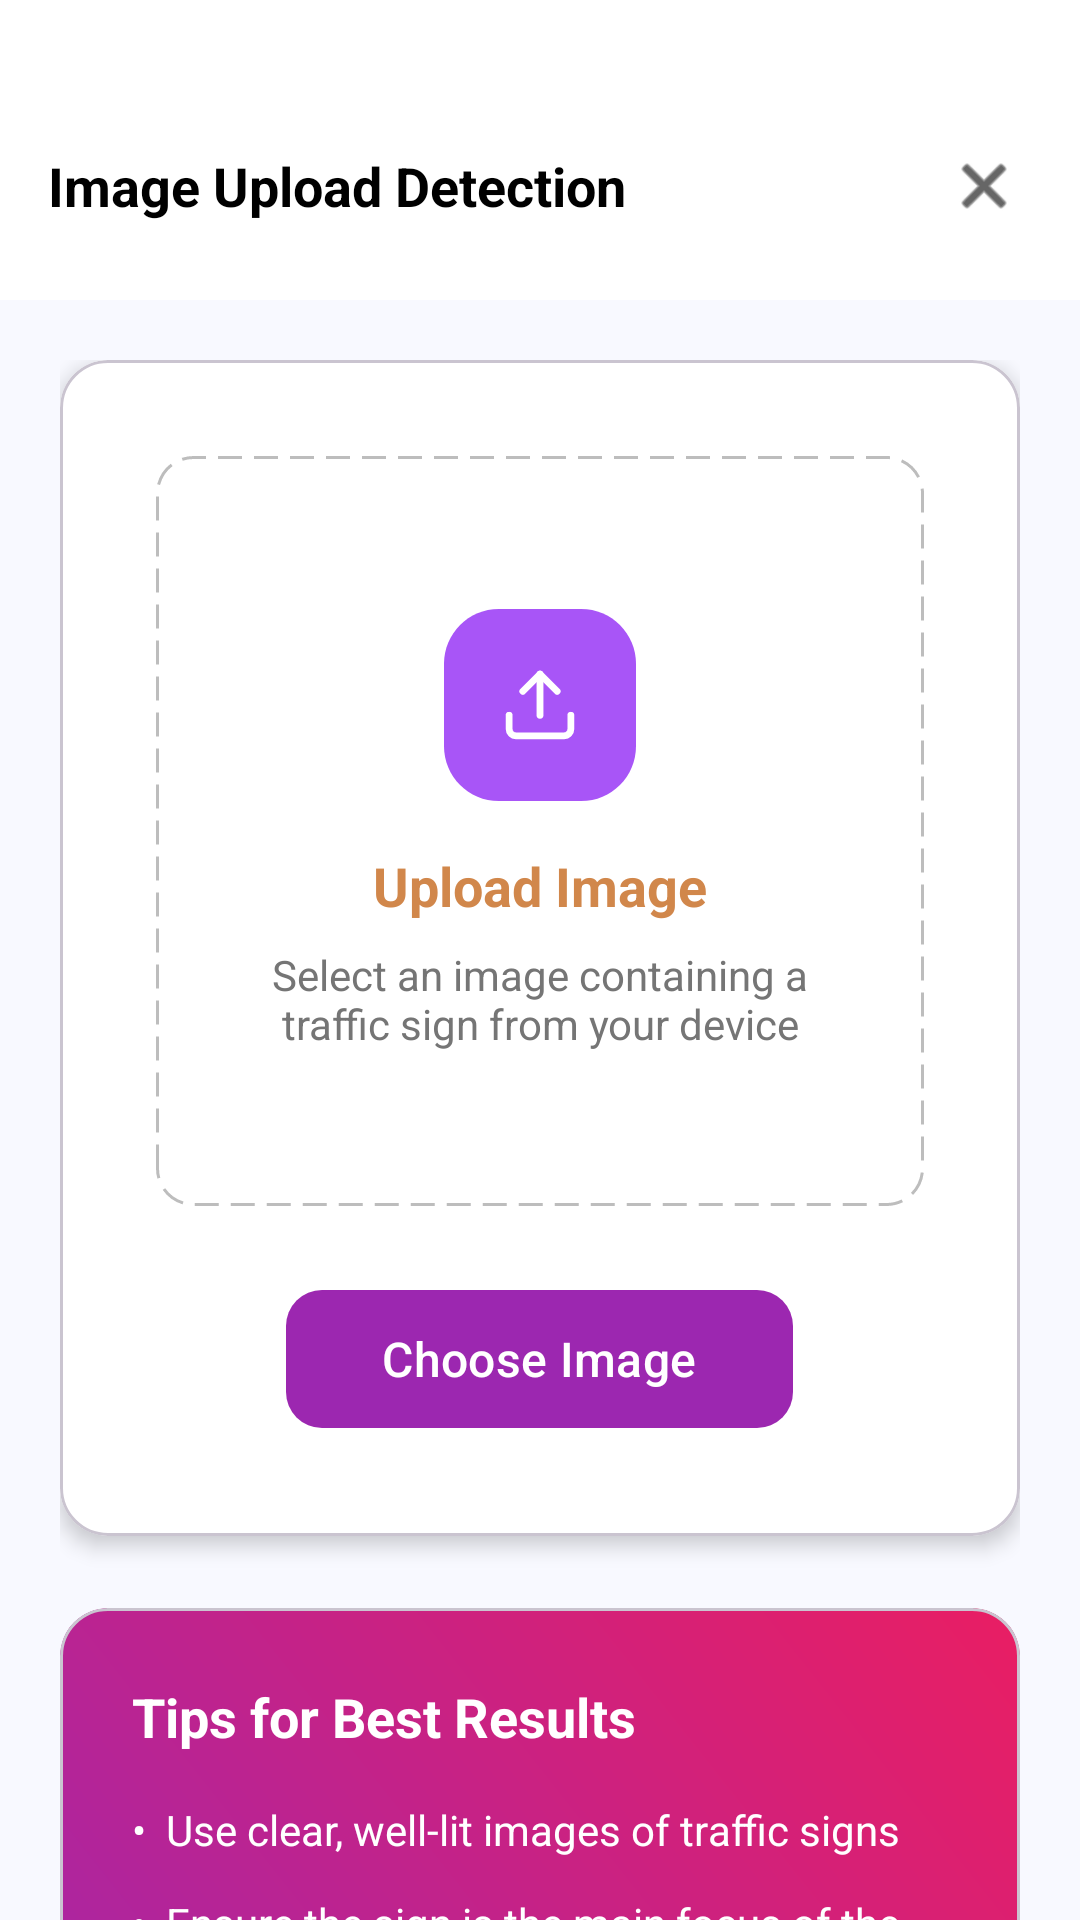

Named icons in this screenshot (1080w x 1920h) and their bounding boxes, bbox(x1, y1, x2, y2):
close clear cancel: bbox(961, 163, 1007, 209)
upload premium: bbox(444, 609, 636, 801)
